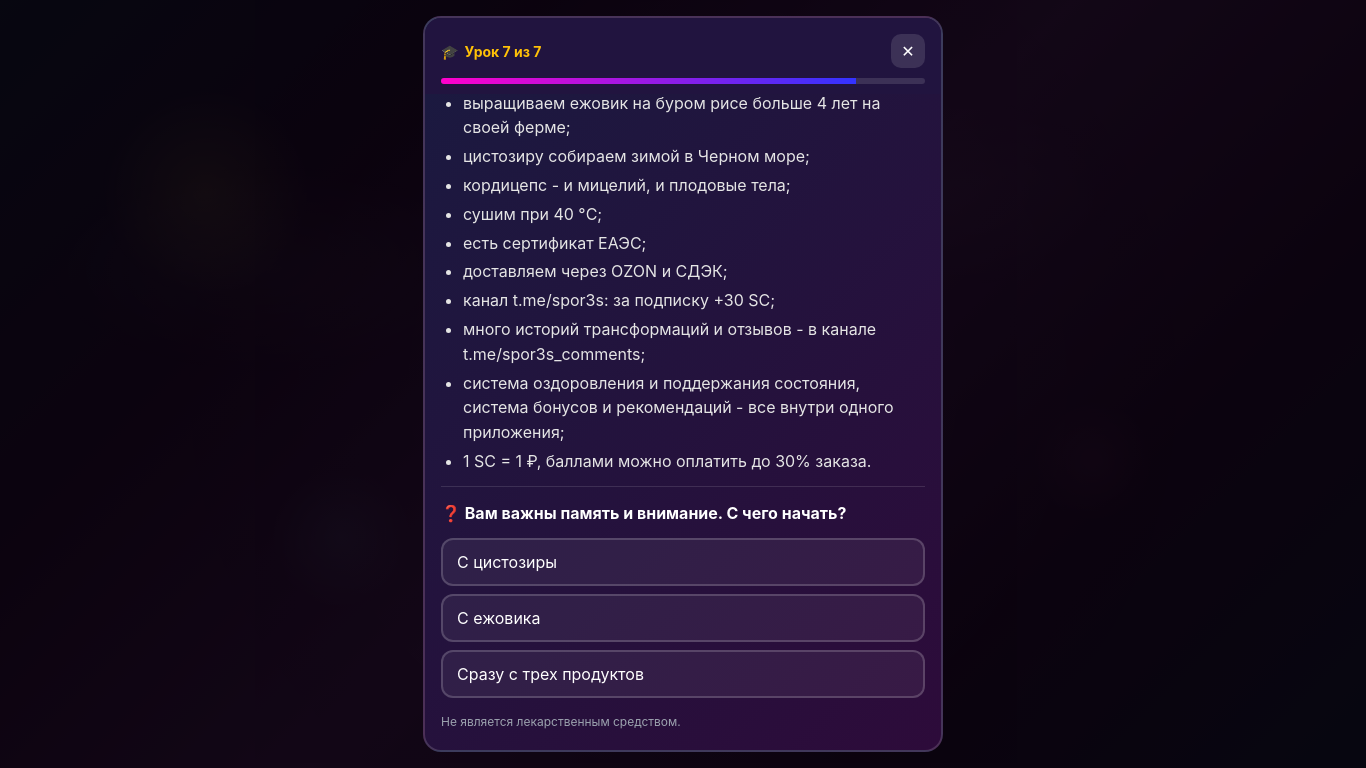
финал › уже начисляли — без второго +100
(page scrolled)
Click the button "С ежовика": click(499, 618) x1=441 y1=594 x2=925 y2=642
(page scrolled)
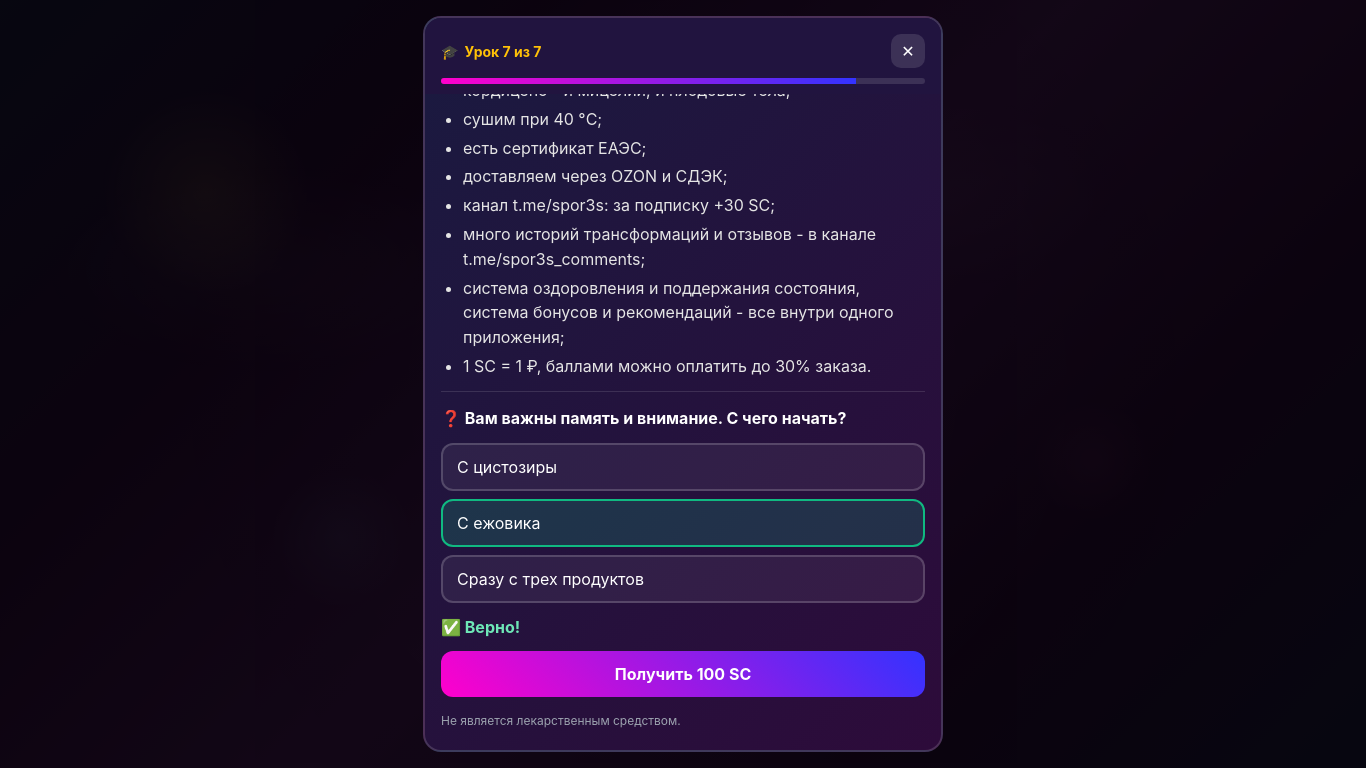
Click the button "Получить 100 SC": click(683, 674) x1=441 y1=651 x2=925 y2=697
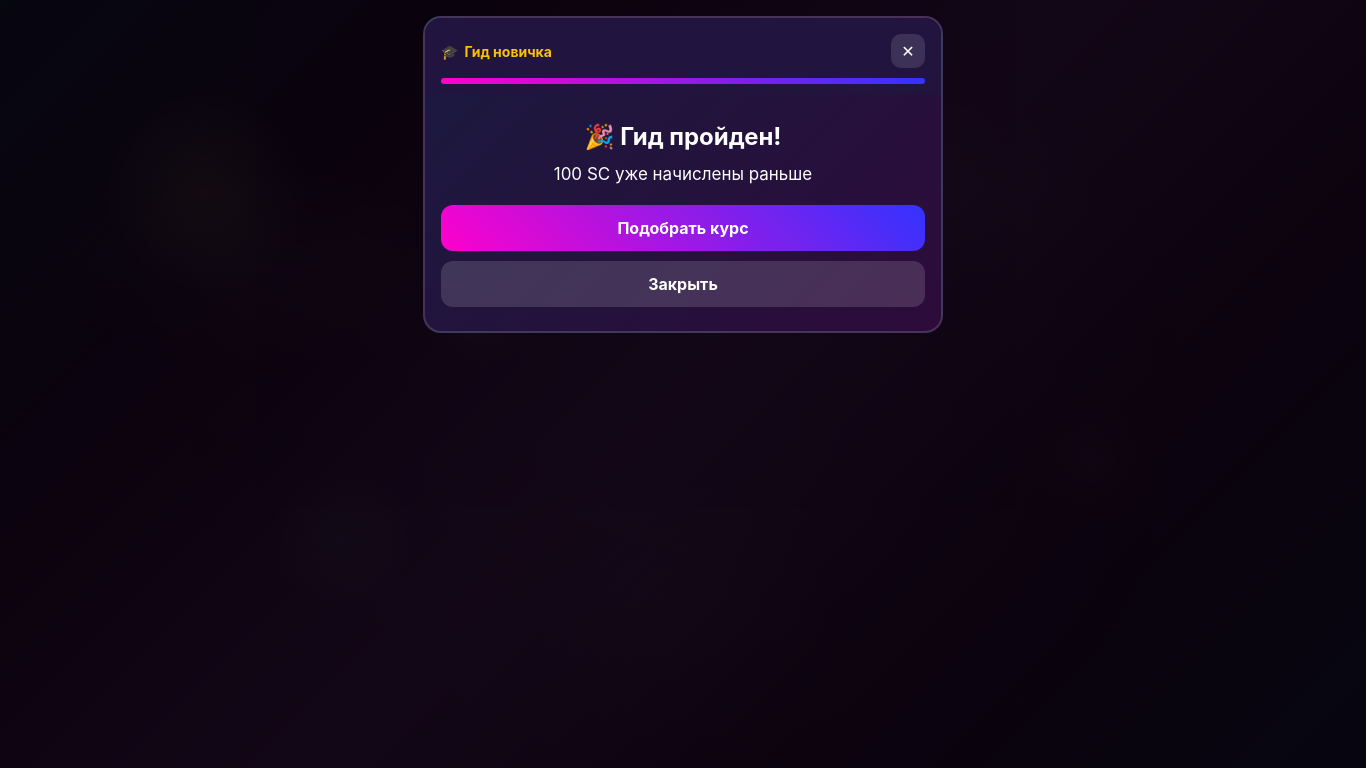
Now the text "100 SC уже начислены раньше" is shown, box x1=554 y1=164 x2=812 y2=184
